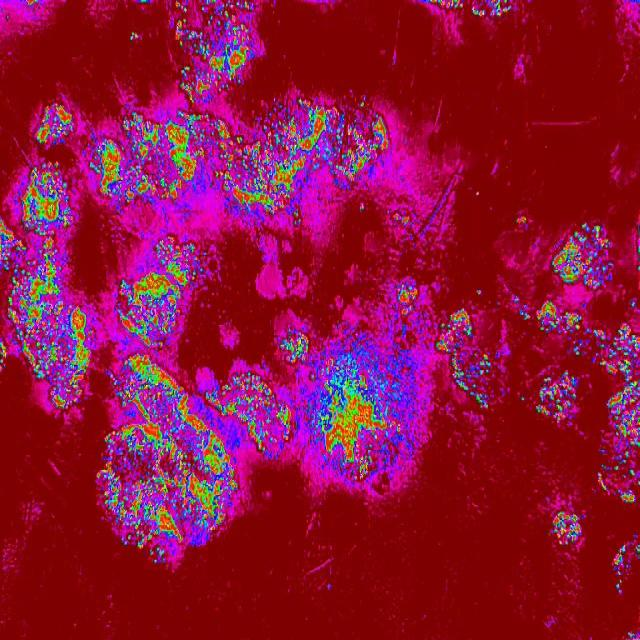fire: (94, 354, 288, 574), (82, 98, 387, 222), (0, 160, 93, 414), (296, 320, 426, 494), (116, 234, 213, 346), (168, 0, 266, 98), (597, 321, 640, 503), (436, 304, 494, 414), (516, 297, 598, 358), (550, 220, 617, 292), (533, 370, 579, 430), (34, 102, 74, 148), (611, 532, 640, 594), (553, 509, 587, 548), (394, 280, 420, 318), (281, 328, 307, 362), (470, 0, 514, 19), (425, 0, 468, 14), (391, 207, 412, 229), (635, 228, 640, 272), (624, 631, 640, 640), (128, 29, 138, 43), (514, 214, 526, 225), (24, 0, 38, 8), (518, 395, 528, 404), (475, 286, 482, 296), (138, 0, 151, 5), (630, 300, 636, 309)
